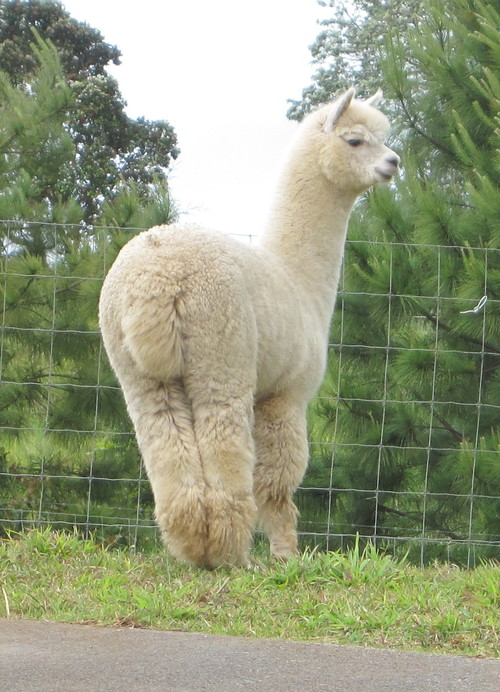alpaca: (97, 84, 401, 571)
